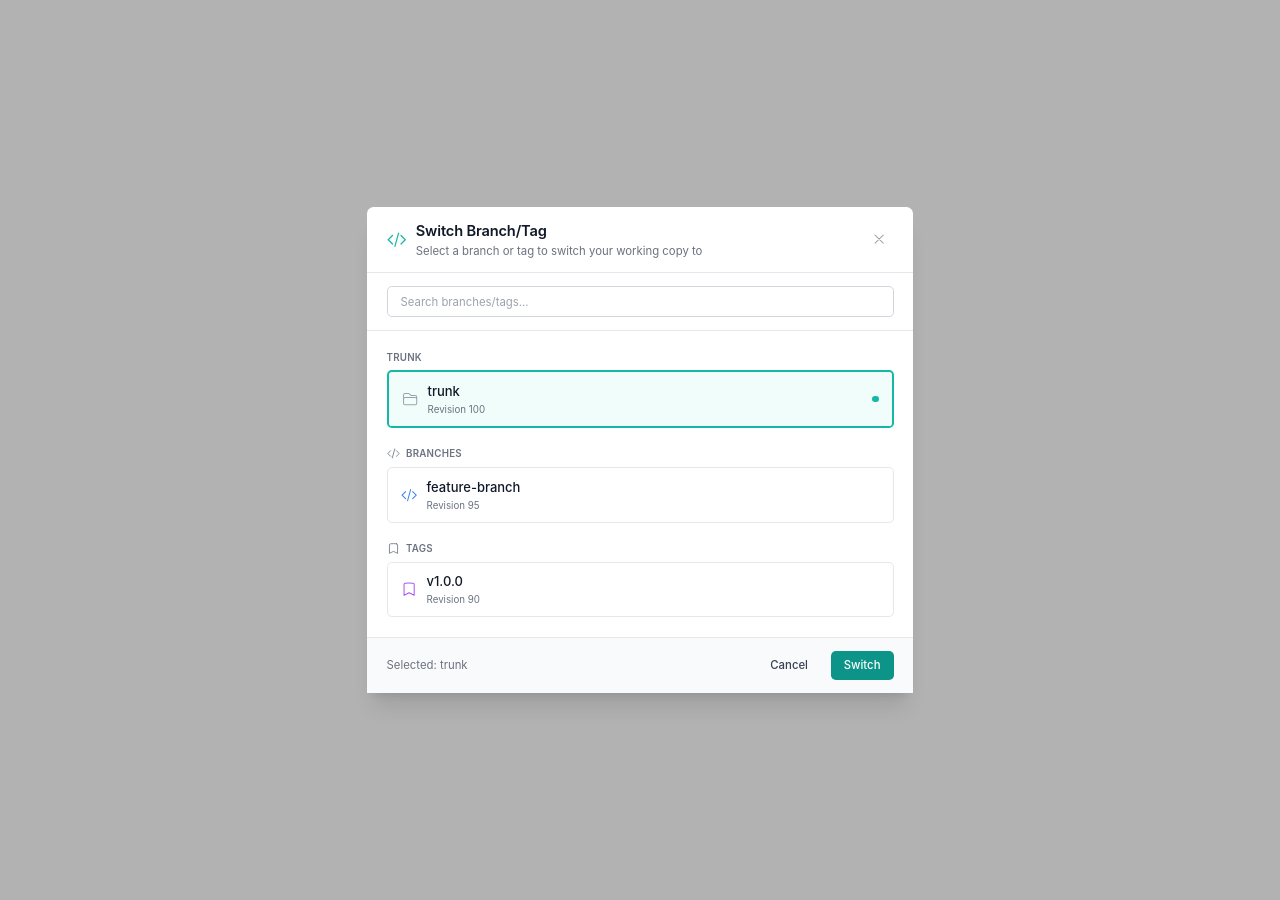
Test: BranchSwitchModal › filters branches/tags by search query
Check: the text "feature-branch" is shown, box [426,478,520,497]
Type "feature" into the field with placeholder "Search branches/tags...".
click(640, 302); type("feature")  # box [386,286,894,317]
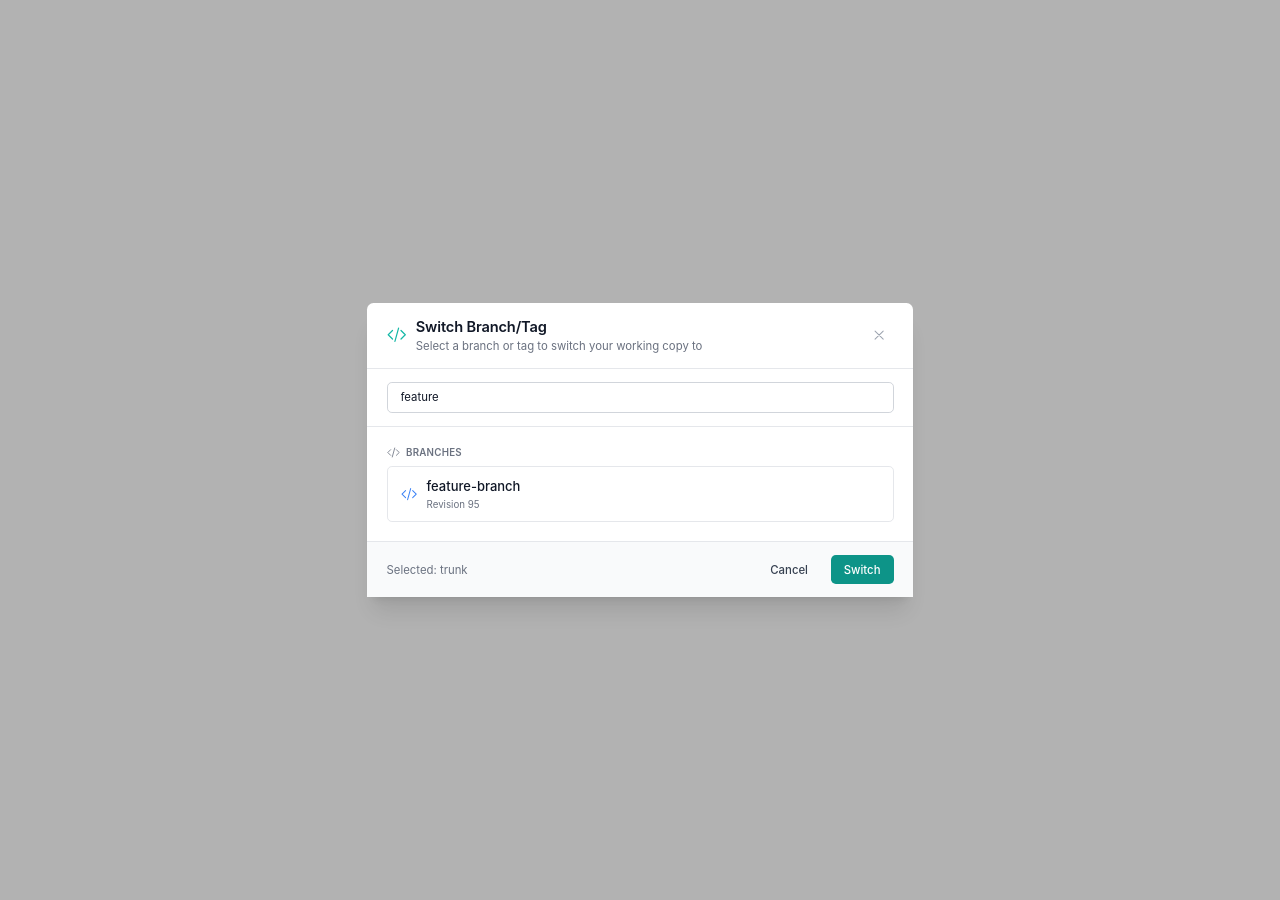
Check: the text "feature-branch" is shown, box [426,477,520,496]
Check: the button "v1.0.0" is gone
